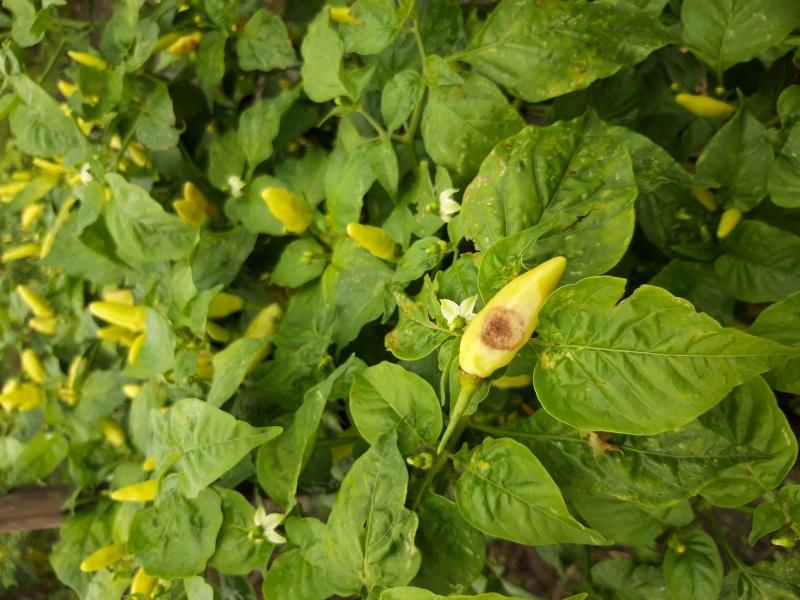antraknosa: (453, 254, 569, 383)
cabai_normal: (261, 186, 311, 233), (346, 222, 398, 258), (90, 302, 148, 330), (675, 91, 731, 119), (111, 481, 155, 503)
